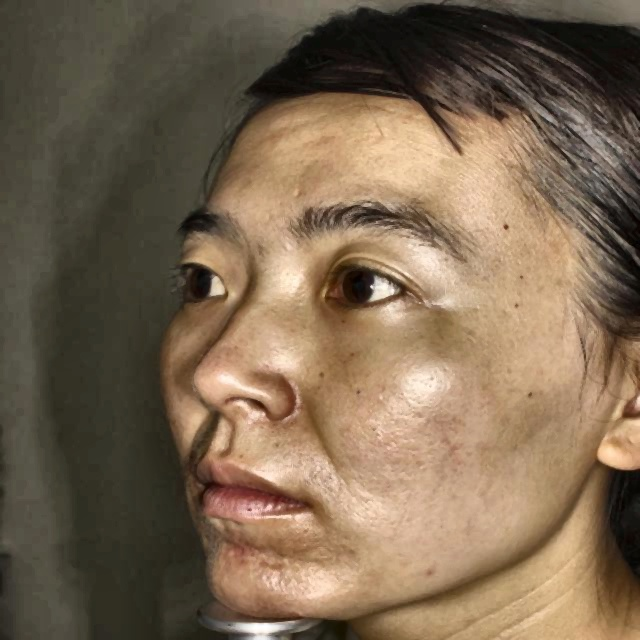comedone: (219, 535, 258, 576)
